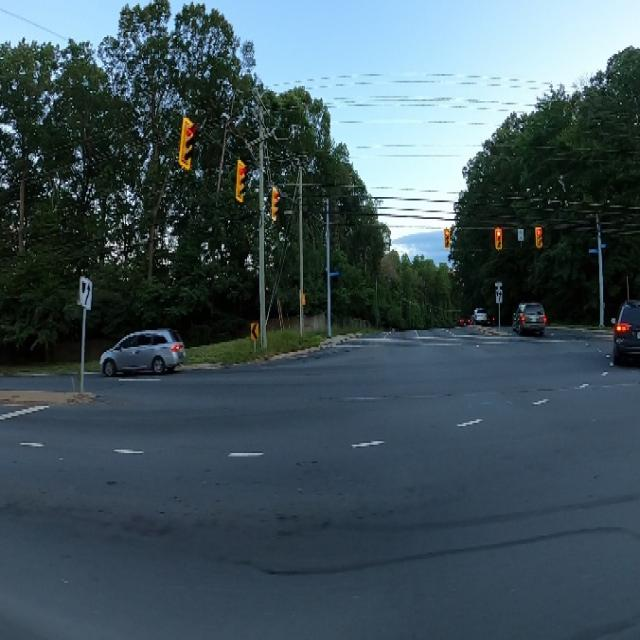car: (88, 313, 192, 389), (606, 283, 640, 374), (508, 292, 550, 346)
